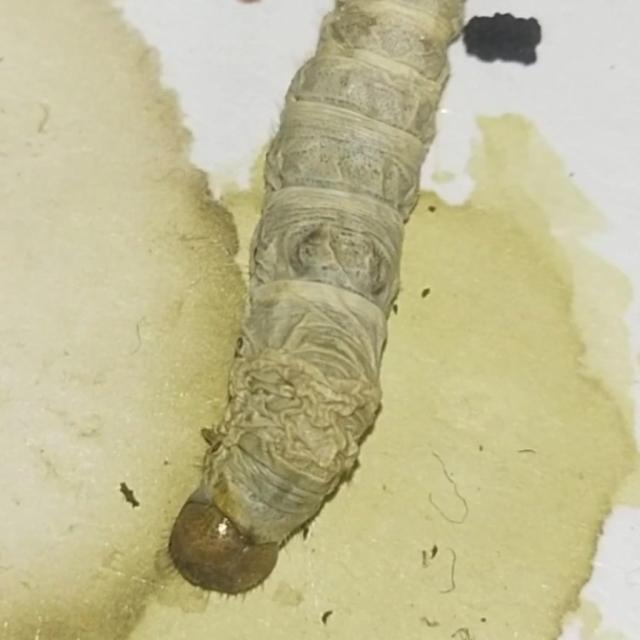Grasserie: (154, 0, 453, 613)
